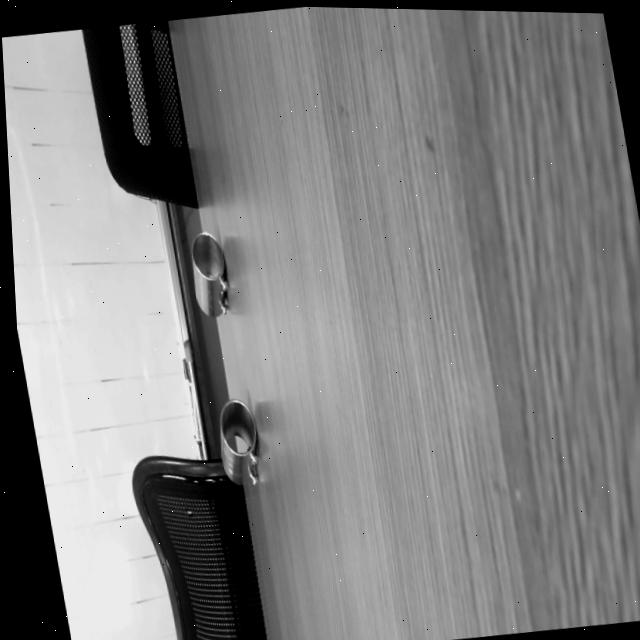Co_Lon: (215, 397, 260, 490)
Co_Nho: (187, 230, 230, 319)
